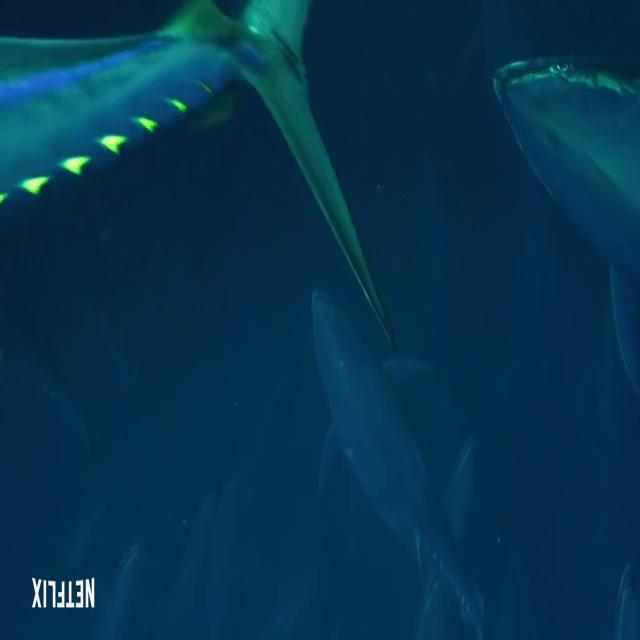fish: (0, 0, 399, 350), (303, 278, 489, 640), (474, 48, 640, 412)
